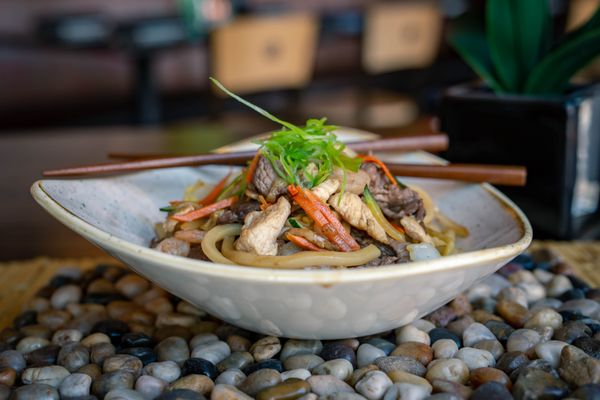sushi: (27, 119, 533, 342)
